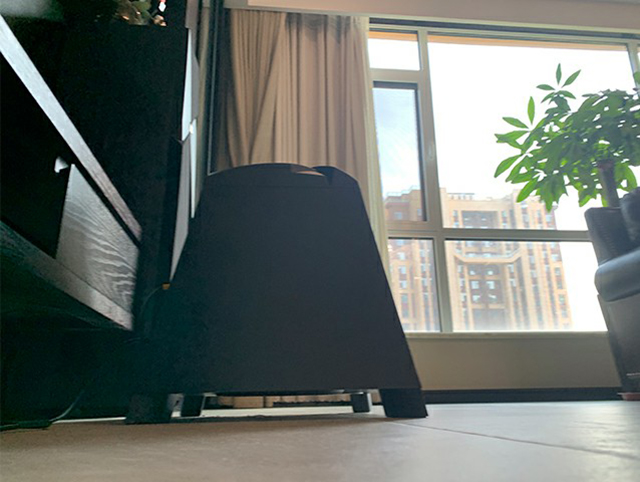cabinet: (1, 11, 144, 340)
sofa: (584, 184, 640, 402)
wire: (1, 377, 92, 433)
